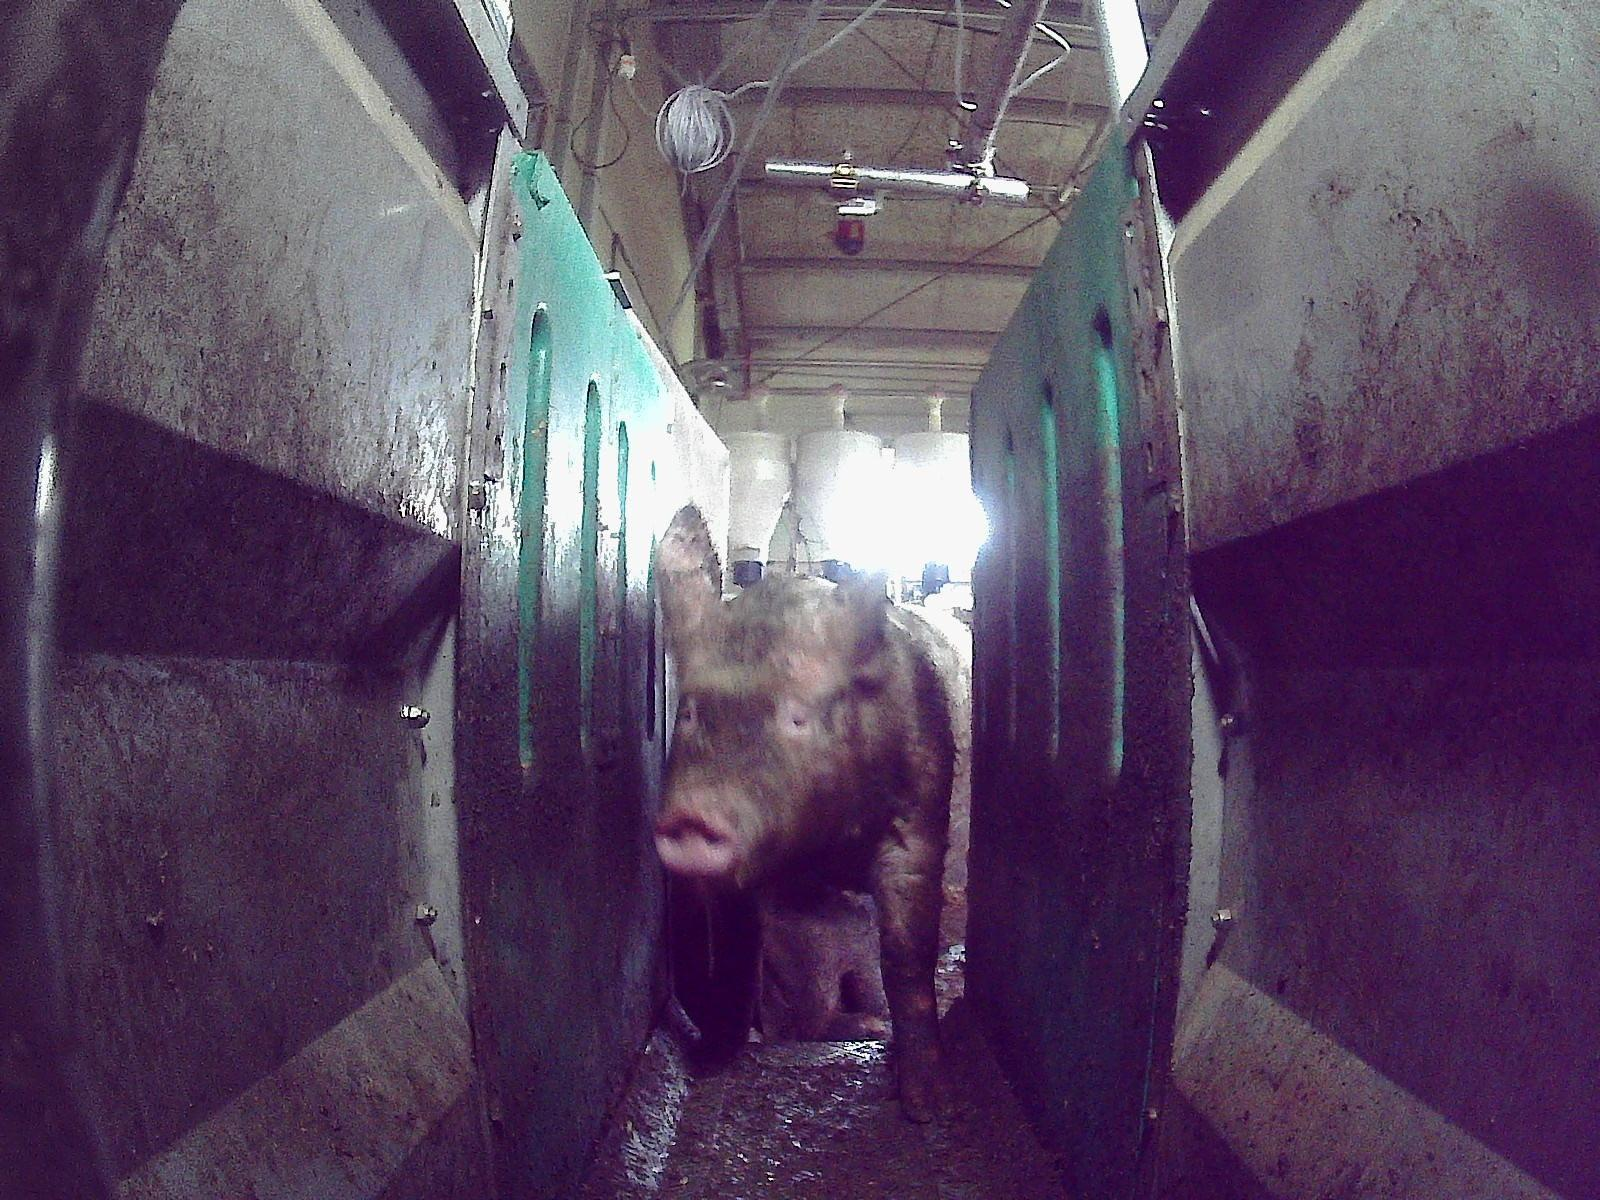Face: (647, 576, 878, 890)
